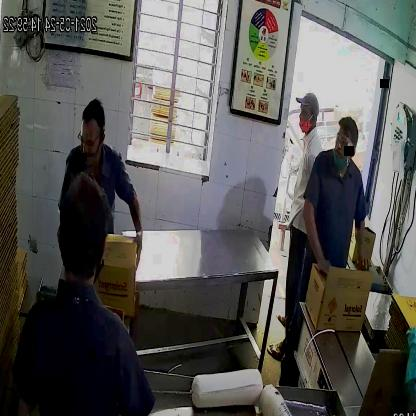goggles: (335, 132, 360, 151)
